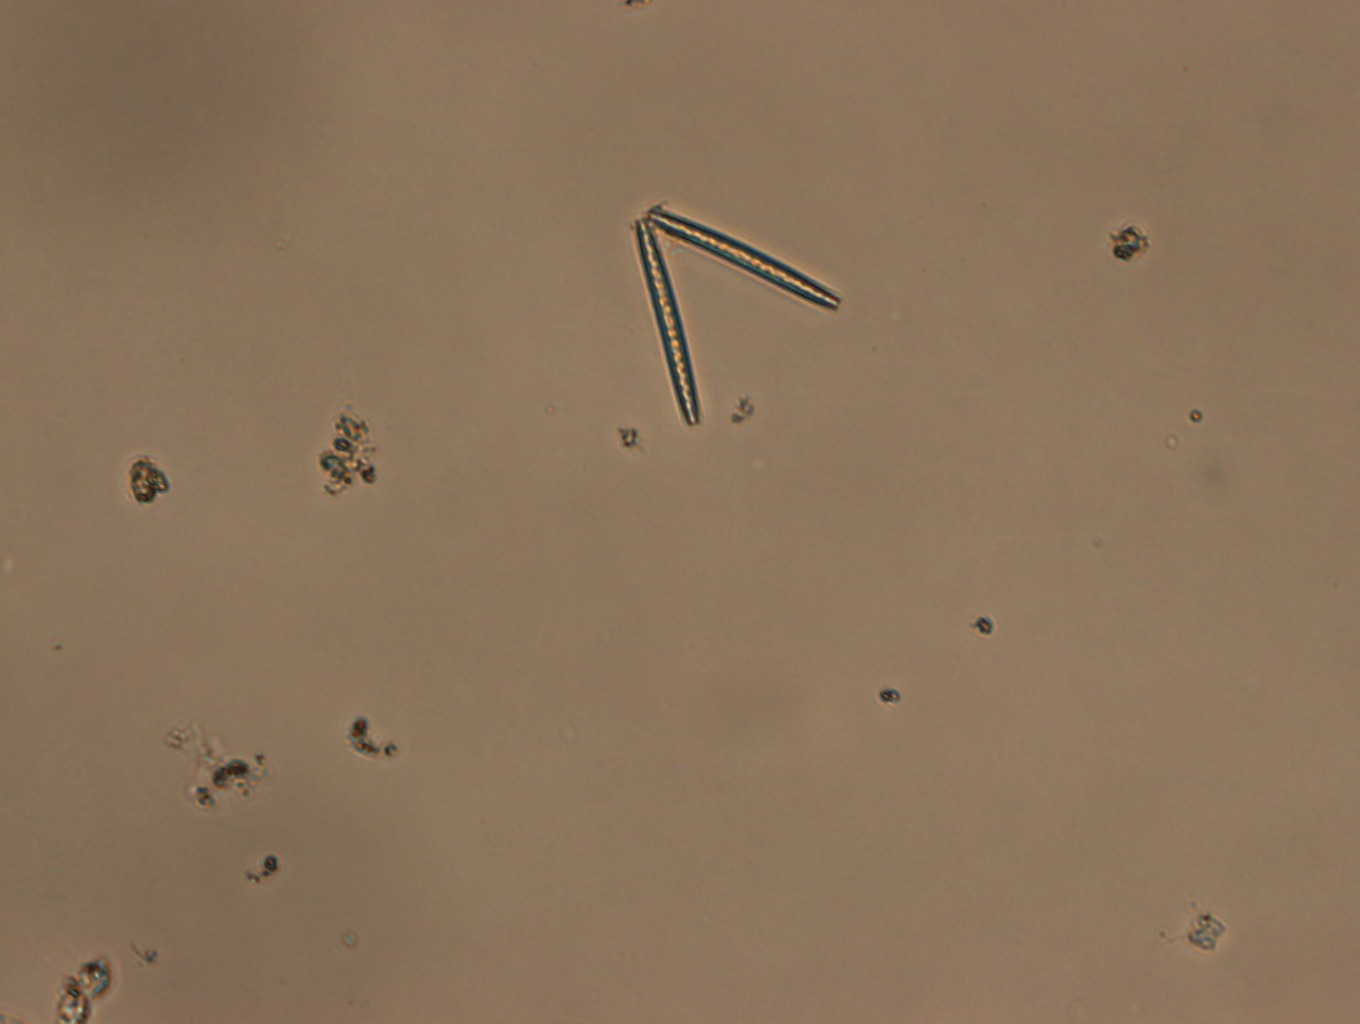thalassionema nitzschioides: (628, 202, 845, 426)
